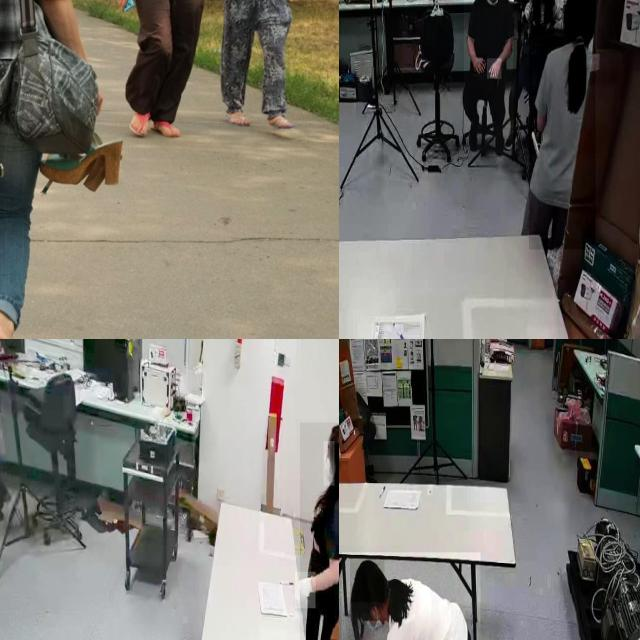face_mask: (324, 441, 334, 486)
face_nomask: (485, 0, 500, 6)
hand_glove: (295, 572, 316, 609)
hand_noglove: (487, 58, 502, 80), (470, 55, 486, 75)
head_nohelmet: (350, 559, 385, 603), (328, 421, 339, 444)
person: (529, 0, 596, 250), (341, 552, 480, 640), (300, 422, 339, 640), (464, 0, 514, 157), (517, 0, 555, 36)
shoes: (465, 112, 483, 154), (502, 124, 520, 158), (491, 124, 506, 160)
